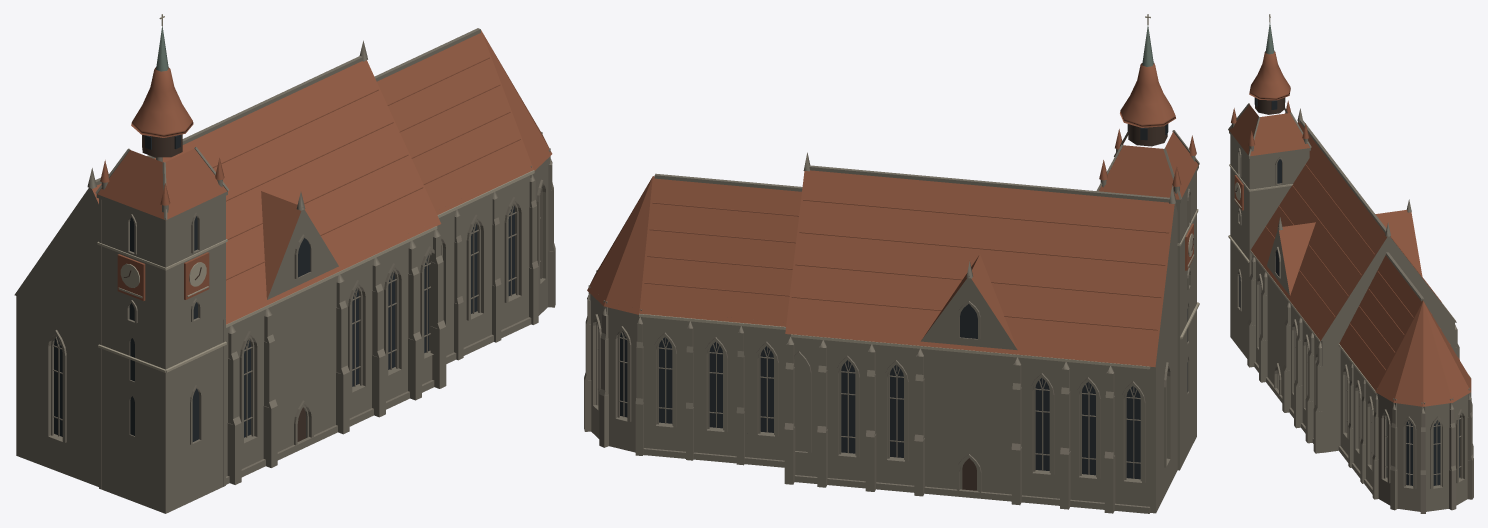
The model's file is black-church-brasov-near.glb.
3 renders of one model, left to right at view 1: azimuth 30°, elevation 25°; view 2: azimuth 150°, elevation 25°; view 3: azimuth 270°, elevation 25°, orthographic. The views are drawn at different scales.
Parts seen in each view (by area): view 1: black-church-brasov-0-stone, black-church-brasov-0-roof, black-church-brasov-0-glass, black-church-brasov-0-trim, black-church-brasov-0-wood; view 2: black-church-brasov-0-stone, black-church-brasov-0-roof, black-church-brasov-0-glass, black-church-brasov-0-trim, black-church-brasov-0-wood; view 3: black-church-brasov-0-stone, black-church-brasov-0-roof, black-church-brasov-0-glass, black-church-brasov-0-trim, black-church-brasov-0-wood.
Part boxes in pixels (x1,y1,x2,y2): black-church-brasov-0-stone: (14, 28, 555, 513); black-church-brasov-0-roof: (92, 30, 552, 324); black-church-brasov-0-glass: (54, 134, 514, 441); black-church-brasov-0-trim: (97, 14, 534, 372); black-church-brasov-0-wood: (124, 134, 305, 441); black-church-brasov-0-stone: (584, 130, 1199, 513); black-church-brasov-0-roof: (587, 63, 1198, 367); black-church-brasov-0-glass: (620, 124, 1187, 479); black-church-brasov-0-trim: (639, 14, 1199, 369); black-church-brasov-0-wood: (962, 124, 1193, 490); black-church-brasov-0-stone: (1228, 103, 1473, 513); black-church-brasov-0-roof: (1229, 51, 1471, 406); black-church-brasov-0-glass: (1239, 97, 1459, 485); black-church-brasov-0-trim: (1228, 14, 1471, 393); black-church-brasov-0-wood: (1235, 97, 1284, 191).
Bounding box in the file's own units: 82.13 × 65 × 43.72.
